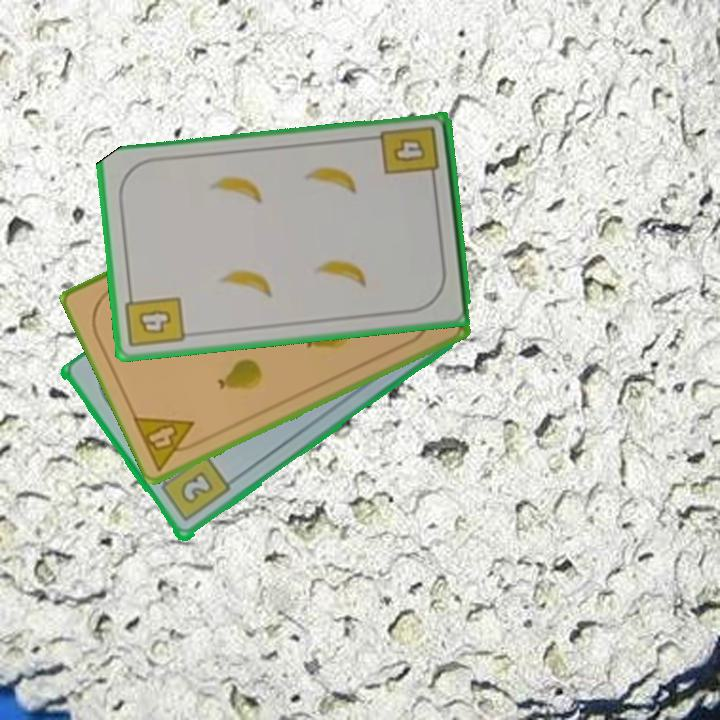2b: (154, 451, 233, 525)
4b: (378, 122, 443, 188), (122, 287, 187, 351)
4p: (129, 412, 208, 473)
